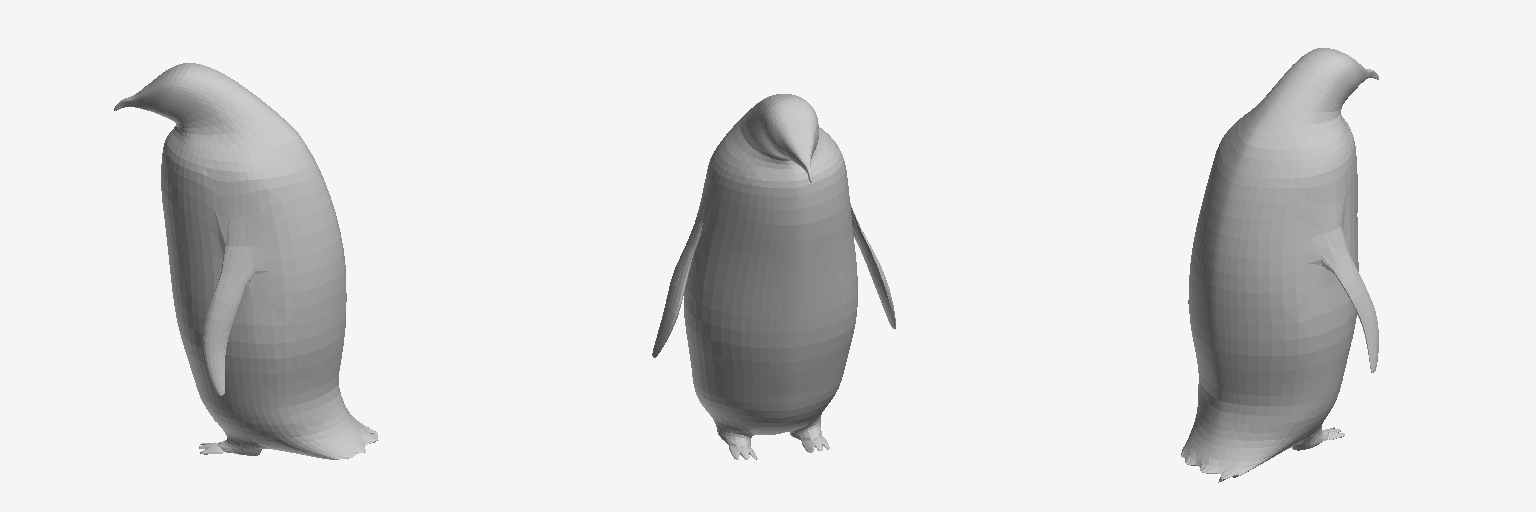
Rendered from penguin8.obj.
3 renders of one model, left to right at view 1: azimuth 30°, elevation 25°; view 2: azimuth 150°, elevation 25°; view 3: azimuth 270°, elevation 25°, orthographic.
Parts seen in each view (by area): view 1: Penguin_Cylinder; view 2: Penguin_Cylinder; view 3: Penguin_Cylinder.
Part boxes in pixels (left/top/right/bottom): Penguin_Cylinder: left=114, top=63, right=377, bottom=459; Penguin_Cylinder: left=652, top=94, right=895, bottom=459; Penguin_Cylinder: left=1181, top=48, right=1378, bottom=482.
Bounding box in the file's own units: 107 × 202 × 98.65.